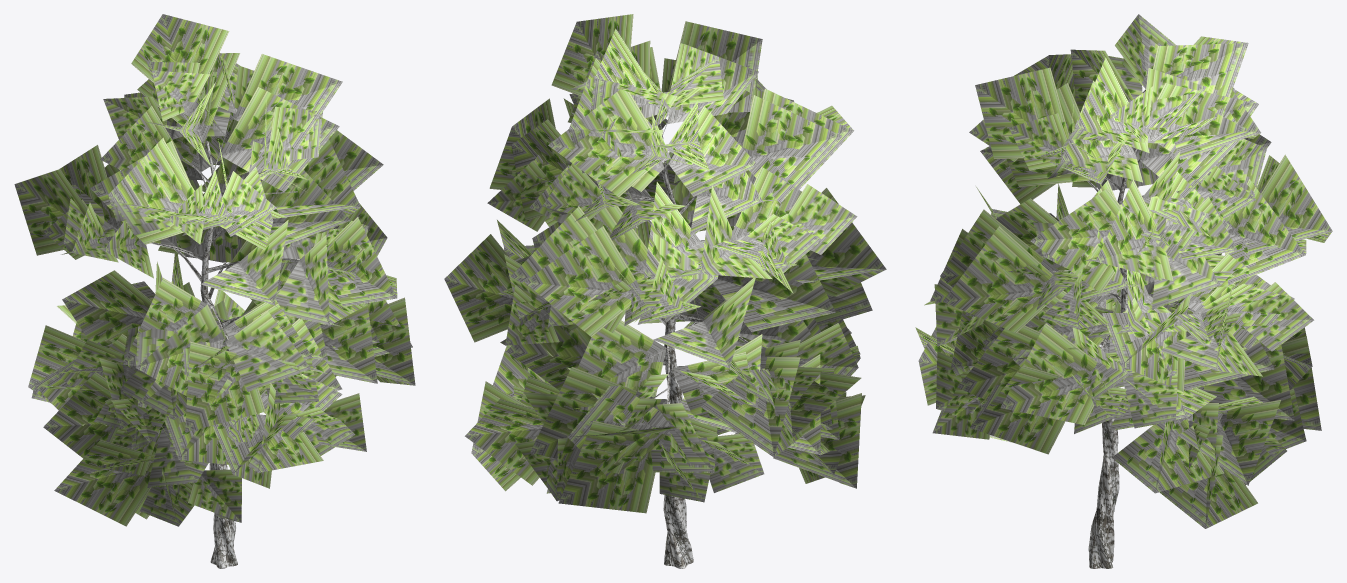
Rendered from Birch_1.fbx.
3 views of the same model, side by side, from view 1: azimuth 30°, elevation 25°; view 2: azimuth 150°, elevation 25°; view 3: azimuth 270°, elevation 25° (orthographic). The views are drawn at different scales.
Parts seen in each view (by area): view 1: Tree_1, Tree_0; view 2: Tree_1, Tree_0; view 3: Tree_1, Tree_0.
Boxes of the visible parts, x1,y1,x2,y2 form: Tree_1: (14,14,415,526); Tree_0: (107,112,300,568); Tree_1: (444,14,886,513); Tree_0: (547,114,748,568); Tree_1: (915,14,1332,528); Tree_0: (1050,129,1200,568).
Size of the model in its own units: 169 by 244 by 173.
